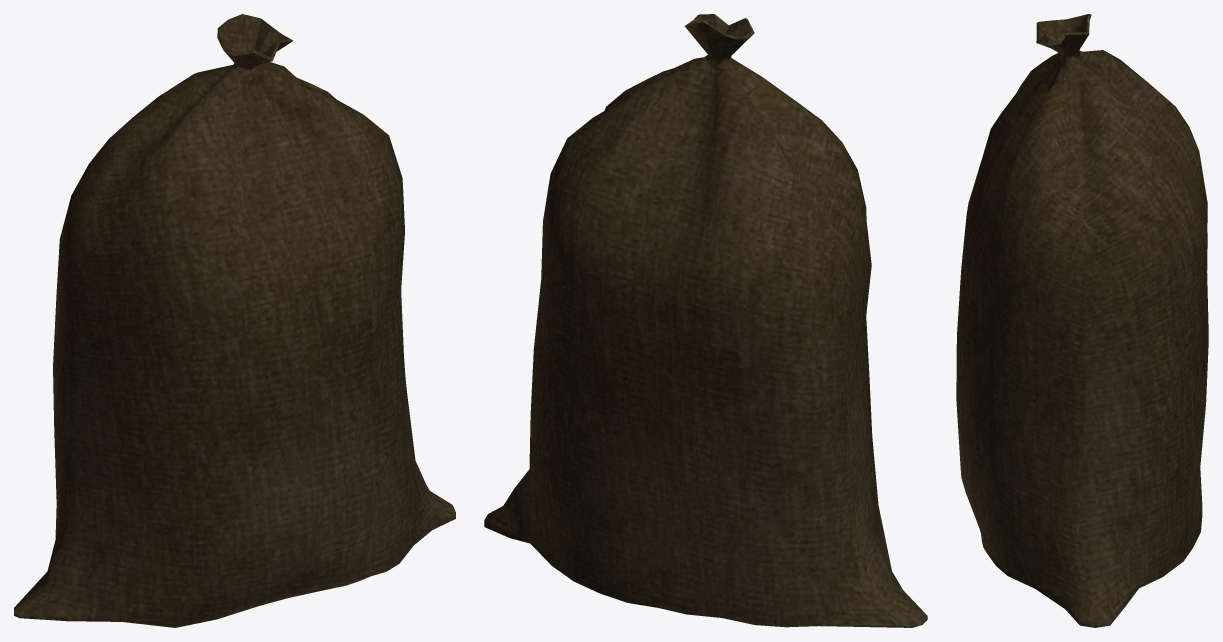
The model's file is Sack02.fbx.
3 views of the same model, side by side, from view 1: azimuth 30°, elevation 25°; view 2: azimuth 150°, elevation 25°; view 3: azimuth 270°, elevation 25° (orthographic). The views are drawn at different scales.
Parts seen in each view (by area): view 1: Sack02; view 2: Sack02; view 3: Sack02.
Boxes of the visible parts, x1,y1,x2,y2 form: Sack02: (14, 14, 455, 627); Sack02: (484, 14, 927, 627); Sack02: (956, 14, 1208, 627).
Size of the model in its own units: 54 by 65.1 by 28.94.
